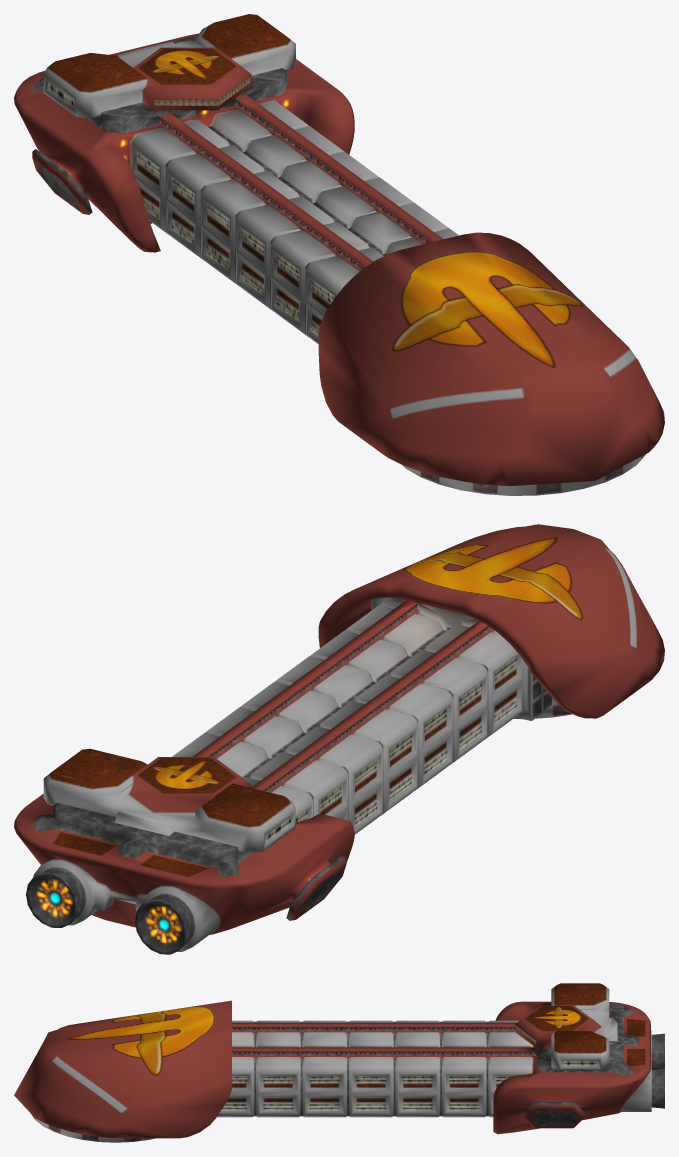
The model's file is arsenal_dvaered.gltf.
The picture shows the model from 3 angles, top to bottom: view 1: azimuth 30°, elevation 25°; view 2: azimuth 150°, elevation 25°; view 3: azimuth 270°, elevation 25°; orthographic projection. The views are drawn at different scales.
Visible parts, largest first — view 1: base; view 2: base; view 3: base.
Boxes of the visible parts, x1,y1,x2,y2 form: base: [14, 14, 664, 495]; base: [14, 524, 664, 954]; base: [14, 983, 664, 1142].
Size of the model in its own units: 7.57 by 3.4 by 22.41.
Materials: 1 (1 with a texture image).
